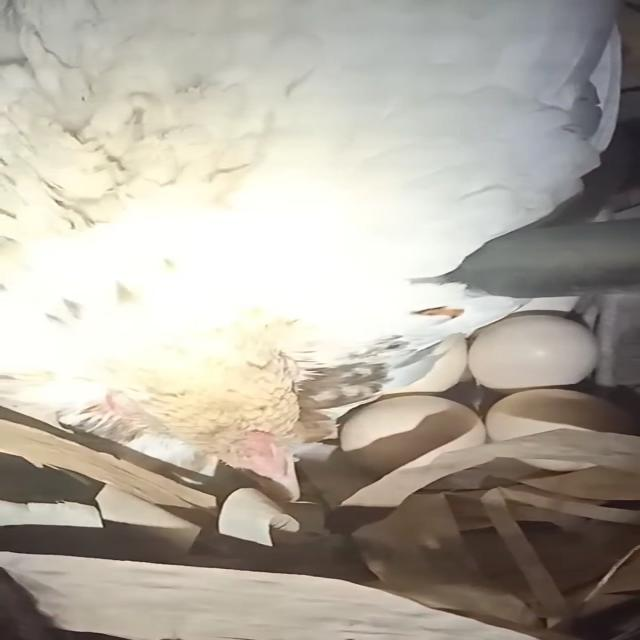crouch chicken: (6, 0, 640, 517)
